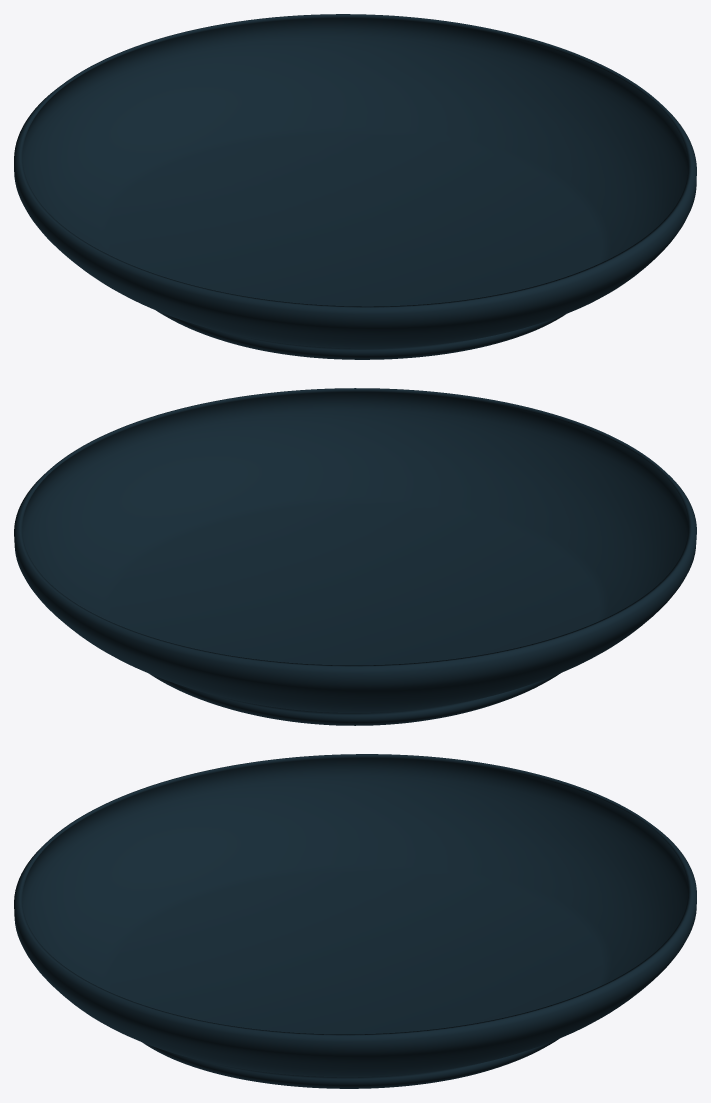
Rendered from fruit_plate.glb.
The picture shows the model from 3 angles, top to bottom: view 1: azimuth 30°, elevation 25°; view 2: azimuth 150°, elevation 25°; view 3: azimuth 270°, elevation 25°; orthographic projection.
Visible parts, largest first — view 1: w_fruit_plate; view 2: w_fruit_plate; view 3: w_fruit_plate.
Part boxes in pixels (x1,y1,x2,y2): w_fruit_plate: (14, 14, 696, 359); w_fruit_plate: (14, 388, 696, 725); w_fruit_plate: (14, 754, 696, 1088).
Size of the model in its own units: 0.236 by 0.0429 by 0.2402.
